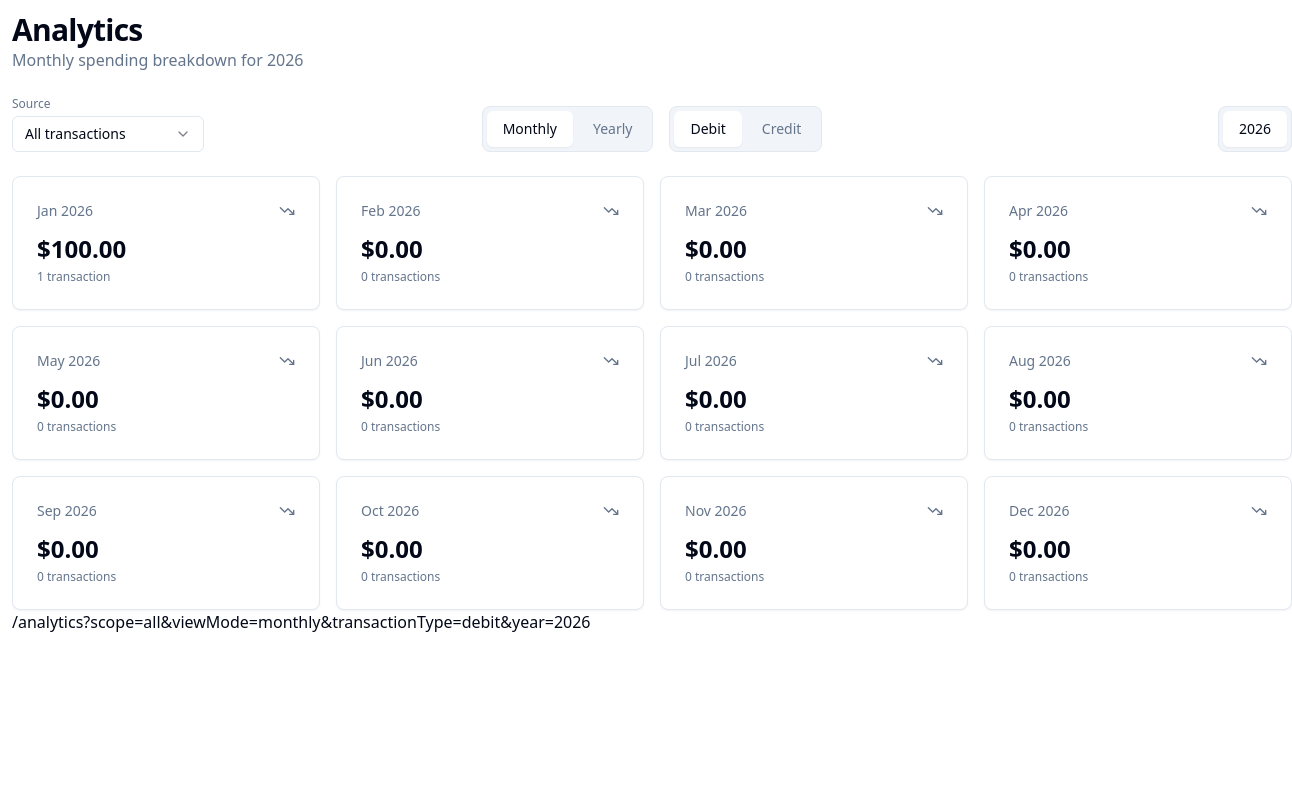
Scenario: AnalyticsPage source resolution › updates the analytics URL when a saved view source is selected
This screenshot has width=1292, height=812.
Click the button named "Source" at (108, 134), box top-left (12, 116), bottom-right (204, 152)
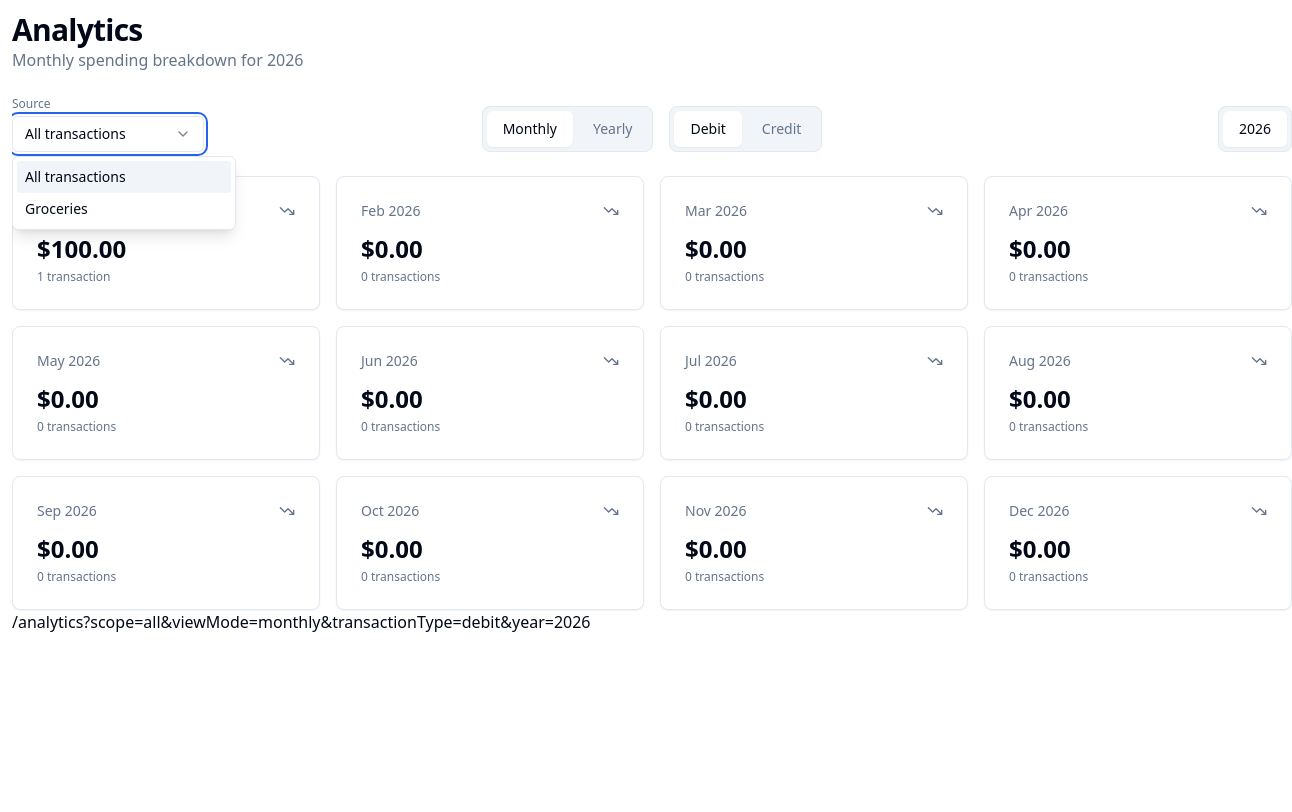
Click the button "Groceries" at (124, 209), box top-left (17, 193), bottom-right (231, 225)
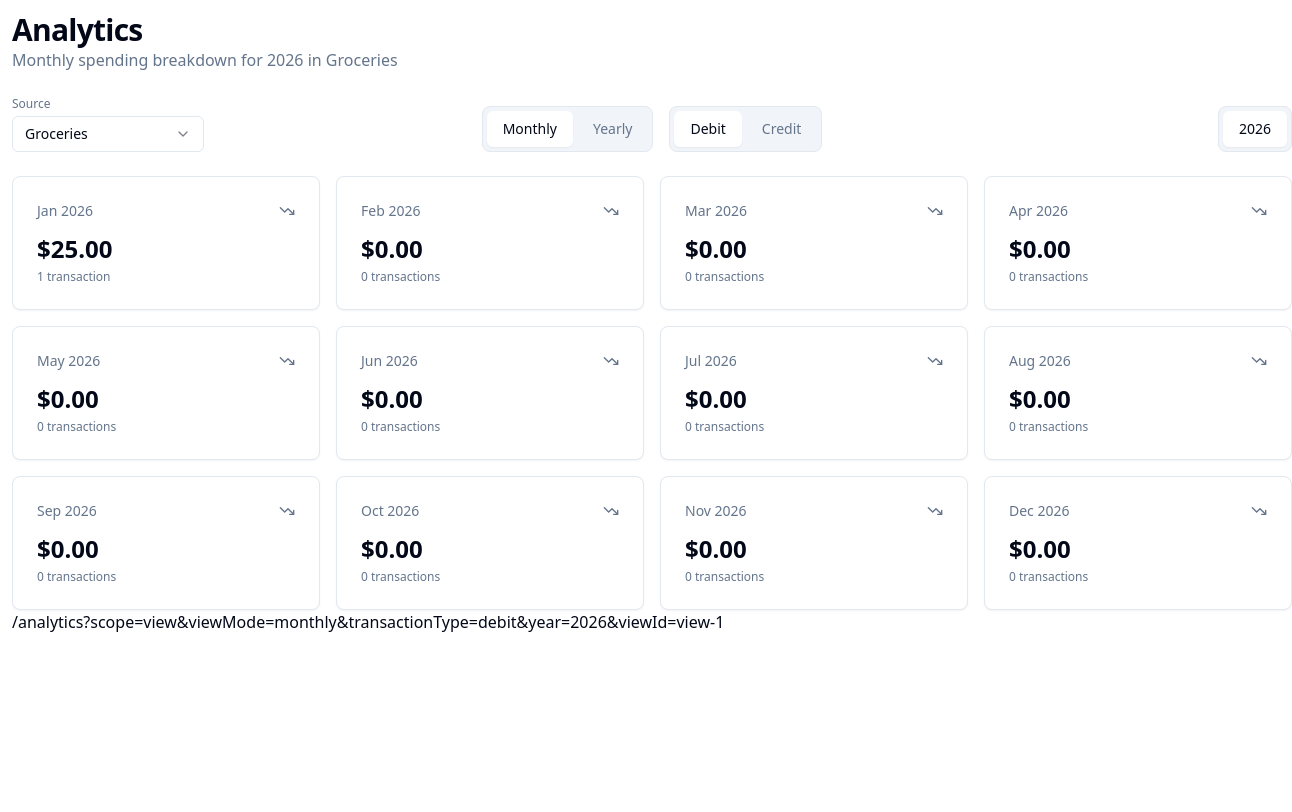
Expected: the text with test id "location" shows "/analytics?scope=view&viewMode=monthly&transactionType=debit&year=2026&viewId=view-1", top-left (12, 611), bottom-right (724, 633)
